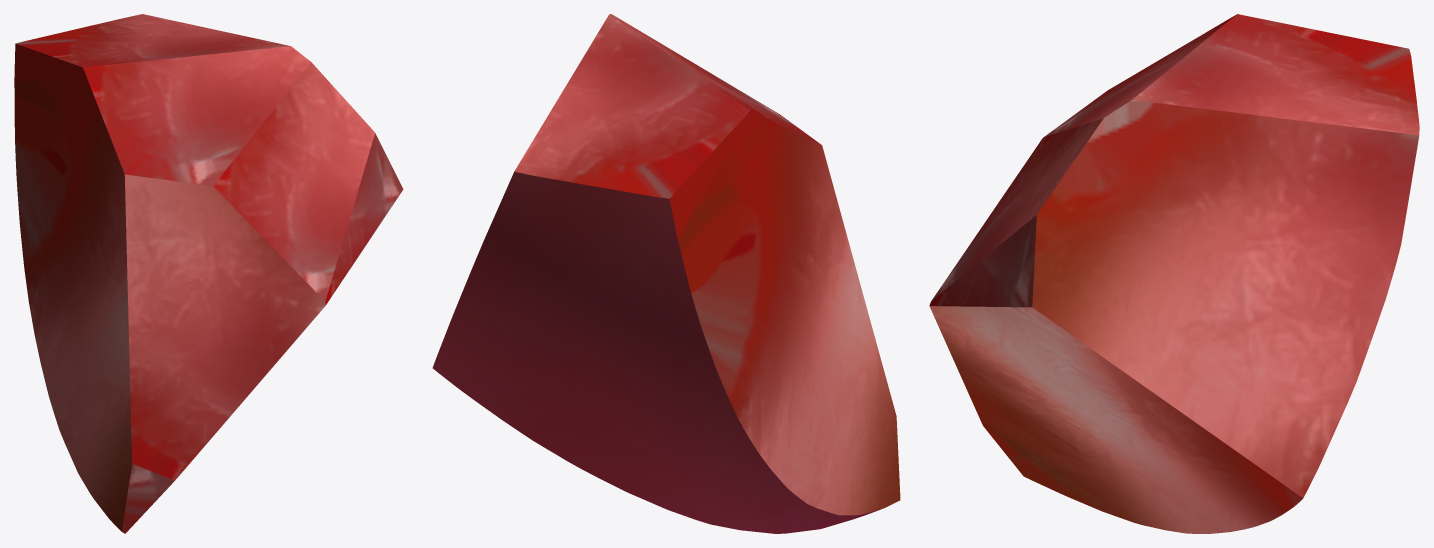
The model's file is SM_HeartPiece_4_.FBX.
3 renders of one model, left to right at view 1: azimuth 30°, elevation 25°; view 2: azimuth 150°, elevation 25°; view 3: azimuth 270°, elevation 25°, orthographic. The views are drawn at different scales.
Parts seen in each view (by area): view 1: SM_HeartPiece_4_; view 2: SM_HeartPiece_4_; view 3: SM_HeartPiece_4_.
Part boxes in pixels (x1=…): SM_HeartPiece_4_: x1=14, y1=14, x2=403, y2=533; SM_HeartPiece_4_: x1=432, y1=14, x2=900, y2=533; SM_HeartPiece_4_: x1=929, y1=14, x2=1419, y2=533.
Bounding box in the file's own units: 212 × 243 × 283.
